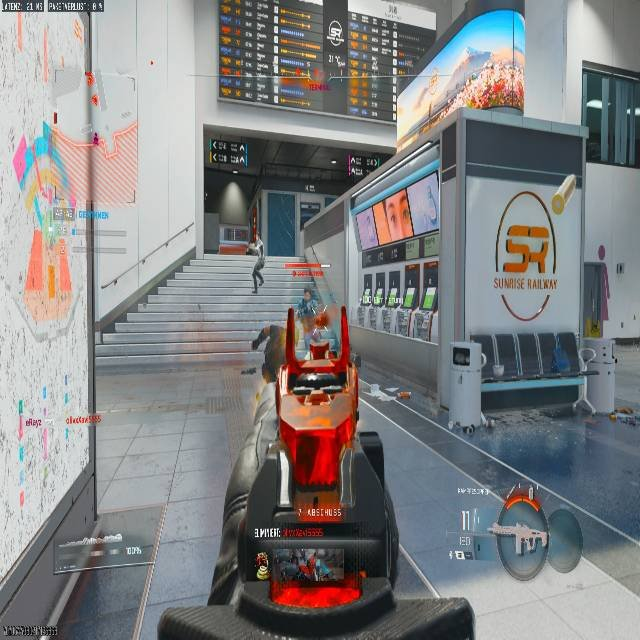head: (302, 285, 318, 301)
player: (297, 284, 327, 346), (245, 234, 265, 293), (300, 282, 321, 315)
